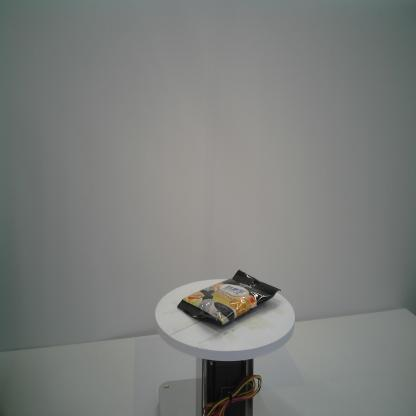Instant Drink: (177, 269, 282, 326)
